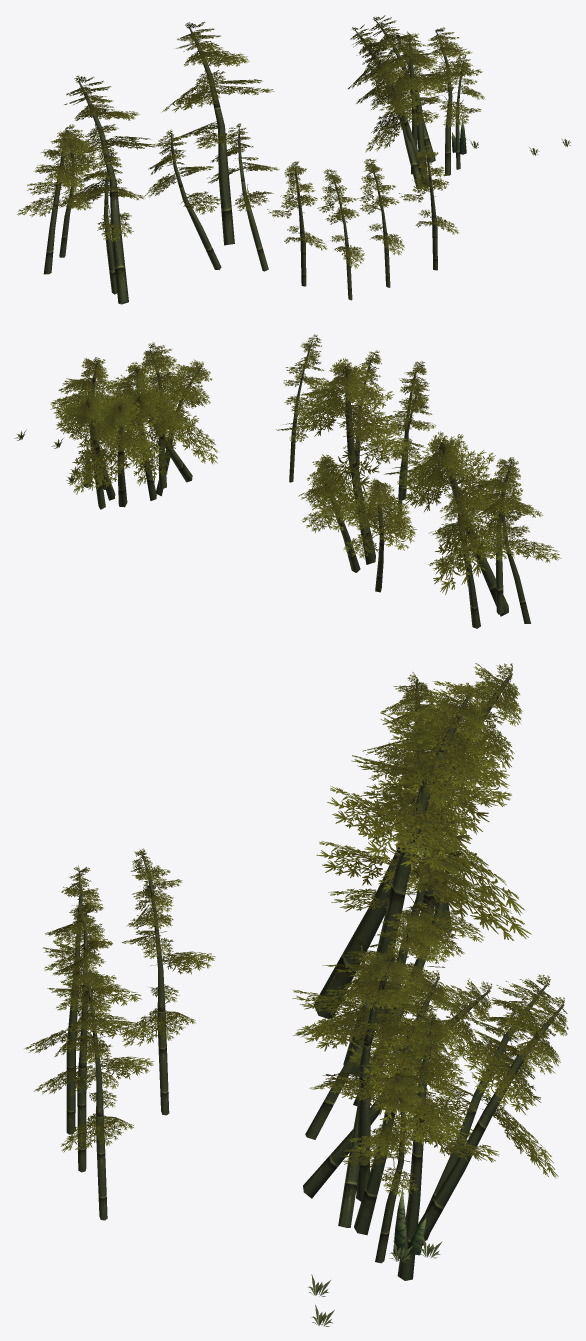
The model's file is Area_15_37.fbx.
The picture shows the model from 3 angles, top to bottom: view 1: azimuth 30°, elevation 25°; view 2: azimuth 150°, elevation 25°; view 3: azimuth 270°, elevation 25°; orthographic projection. The views are drawn at different scales.
Visible parts, largest first — view 1: Area_15_37; view 2: Area_15_37; view 3: Area_15_37.
Part boxes in pixels (box(x1,y1,x2,y2)): Area_15_37: box(17, 15, 570, 304); Area_15_37: box(14, 334, 561, 628); Area_15_37: box(24, 663, 568, 1326).
Bounding box in the file's own units: 5127 × 2149 × 2486.
